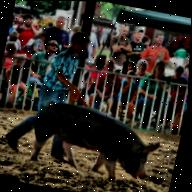boar: (25, 97, 166, 188)
